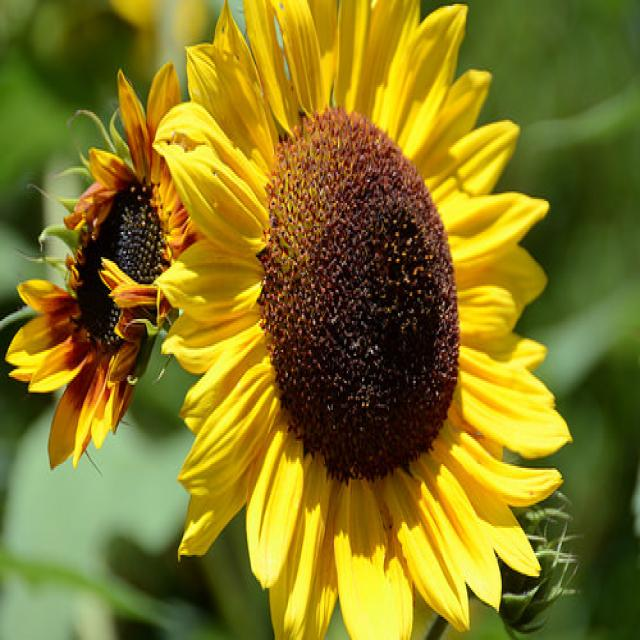sunflower: (148, 0, 574, 640), (0, 47, 212, 475)
